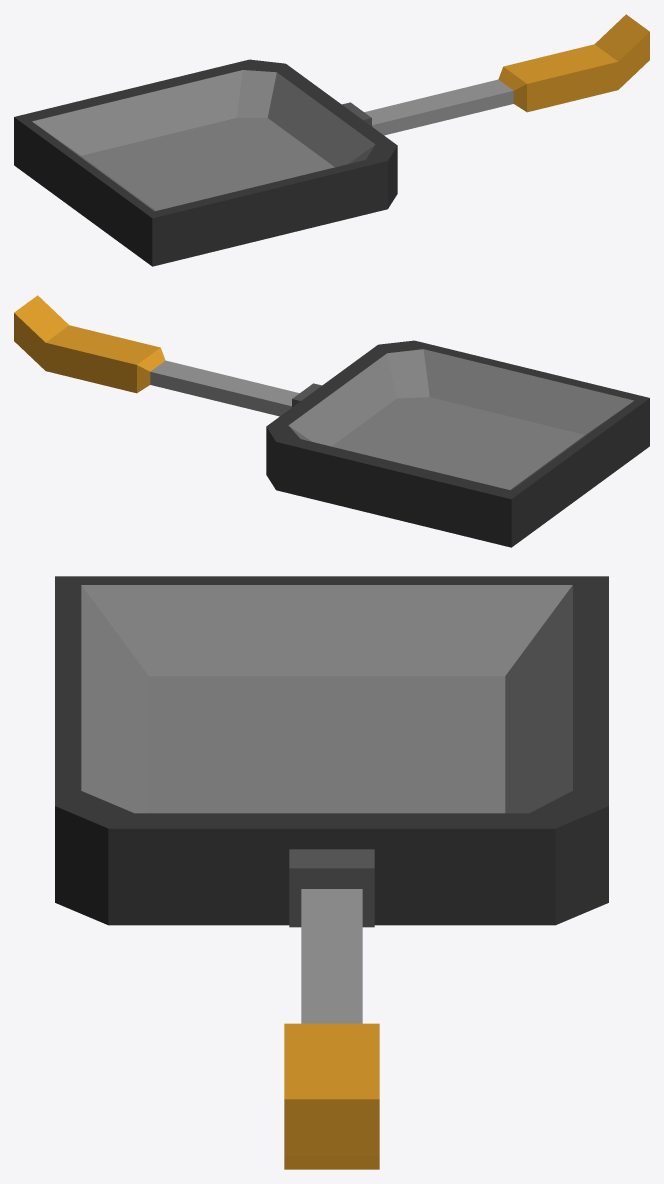
File: Pot.fbx
The picture shows the model from 3 angles, top to bottom: view 1: azimuth 30°, elevation 25°; view 2: azimuth 150°, elevation 25°; view 3: azimuth 270°, elevation 25°; orthographic projection. The views are drawn at different scales.
Visible parts, largest first — view 1: Pot; view 2: Pot; view 3: Pot.
Part boxes in pixels (x1,y1,x2,y2): Pot: [14, 14, 649, 266]; Pot: [14, 295, 649, 547]; Pot: [55, 576, 608, 1169].
Size of the model in its own units: 172 by 17.11 by 74.47.
